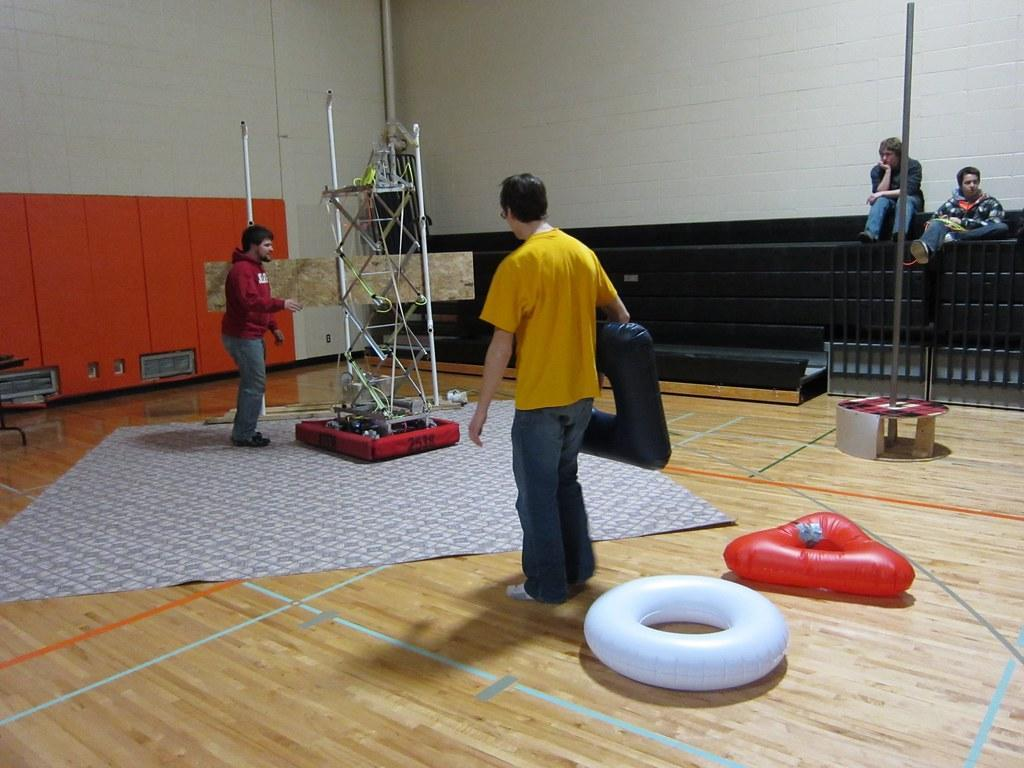robot: (287, 102, 469, 472)
